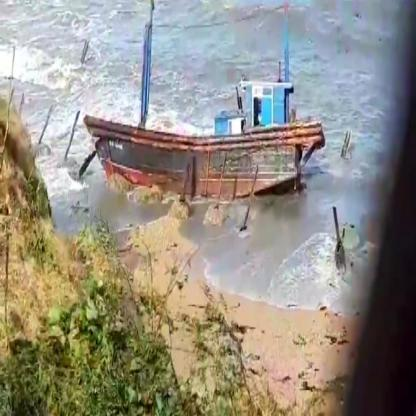fish-b: (80, 31, 331, 209)
